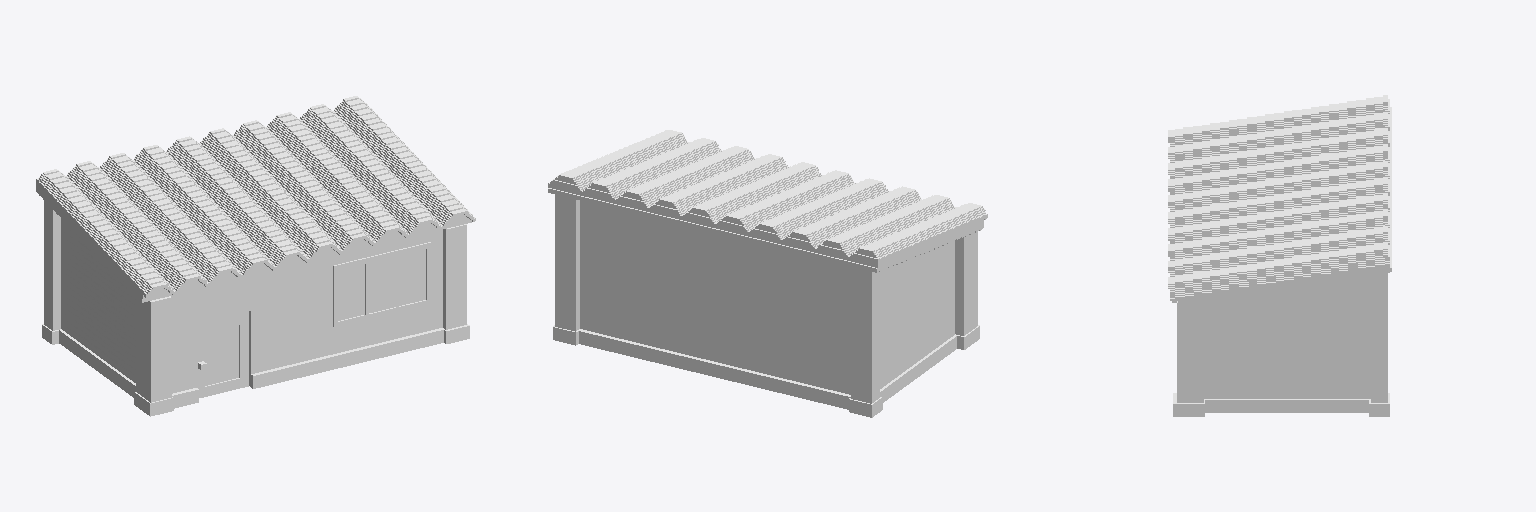
The model's file is vermilion-building-special-2.obj.
3 views of the same model, side by side, from view 1: azimuth 30°, elevation 25°; view 2: azimuth 150°, elevation 25°; view 3: azimuth 270°, elevation 25° (orthographic).
Parts seen in each view (by area): view 1: object 1; view 2: object 1; view 3: object 1.
Part boxes in pixels (x1,y1,x2,y2): object 1: (36, 96, 475, 416); object 1: (548, 130, 987, 417); object 1: (1168, 95, 1391, 416).
Bounding box in the file's own units: 23.7 × 11.4 × 13.9.